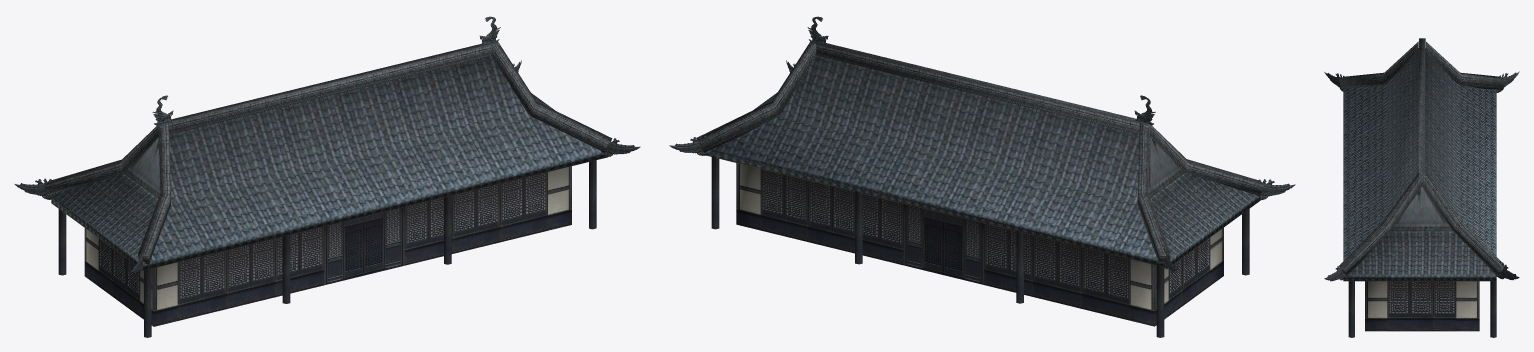
The model's file is cj_mili_horse01.glb.
3 renders of one model, left to right at view 1: azimuth 30°, elevation 25°; view 2: azimuth 150°, elevation 25°; view 3: azimuth 270°, elevation 25°, orthographic. The views are drawn at different scales.
Parts seen in each view (by area): view 1: CJ_mili_horse_roof, CJ_mili_horse_gidung, CJ_mili_horse_wall, CJ_mili_horse_deco; view 2: CJ_mili_horse_roof, CJ_mili_horse_gidung, CJ_mili_horse_wall, CJ_mili_horse_deco; view 3: CJ_mili_horse_roof, CJ_mili_horse_gidung, CJ_mili_horse_wall, CJ_mili_horse_deco.
Part boxes in pixels (bbox=[...]): CJ_mili_horse_roof: bbox=[44, 41, 612, 270]; CJ_mili_horse_gidung: bbox=[58, 160, 596, 337]; CJ_mili_horse_wall: bbox=[84, 166, 571, 326]; CJ_mili_horse_deco: bbox=[14, 16, 640, 273]; CJ_mili_horse_roof: bbox=[696, 41, 1264, 267]; CJ_mili_horse_gidung: bbox=[711, 156, 1249, 337]; CJ_mili_horse_wall: bbox=[736, 163, 1223, 326]; CJ_mili_horse_deco: bbox=[669, 16, 1295, 271]; CJ_mili_horse_roof: bbox=[1339, 38, 1505, 281]; CJ_mili_horse_gidung: bbox=[1348, 281, 1496, 337]; CJ_mili_horse_wall: bbox=[1365, 281, 1479, 331]; CJ_mili_horse_deco: bbox=[1324, 71, 1519, 281].
Bounding box in the file's own units: 36.79 × 13.42 × 14.7.
4 materials, 4 textured.
